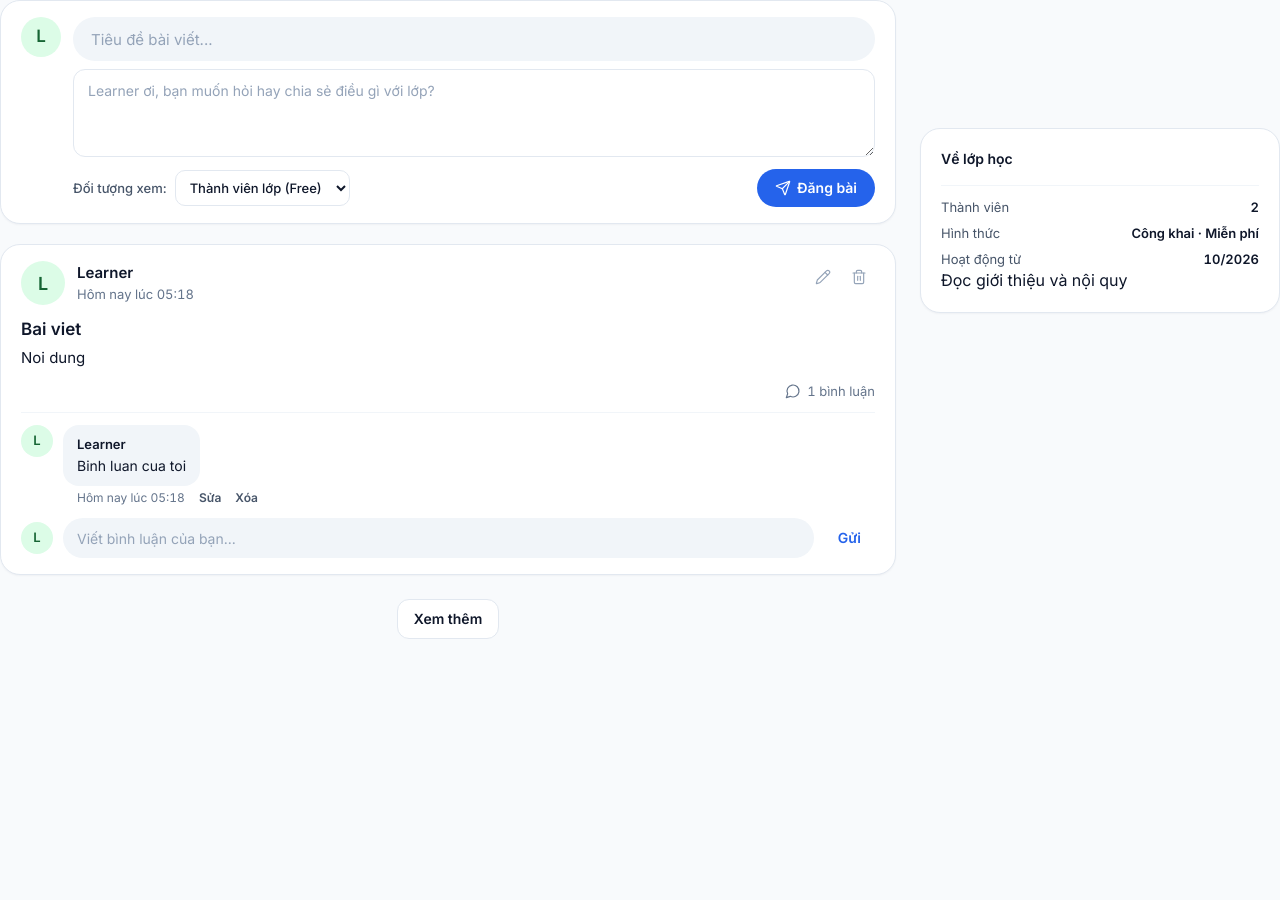
Scenario: FeedTab › R5-01/R5-03: de-dups by id when a "Xem thêm" batch overlaps a post already on screen
What coordinates should you click on to do the following:
click the button "Xem thêm"
I would click on:
 (448, 619)
Its box is [397, 599, 499, 639].
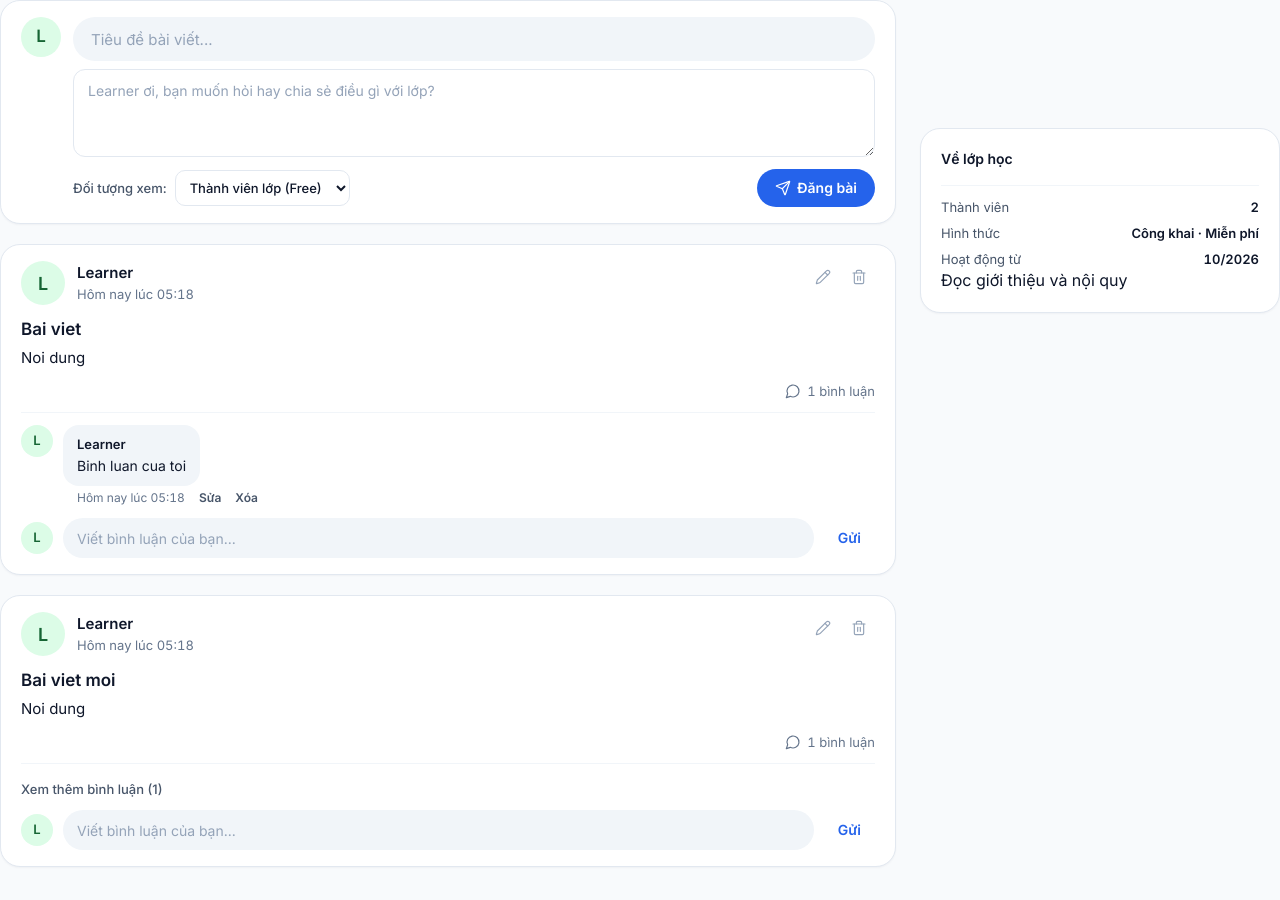
Expected: the number of headings "Bai viet" is 1, [21, 319, 81, 339]
Now the heading "Bai viet moi" is shown, box [21, 670, 116, 690]
